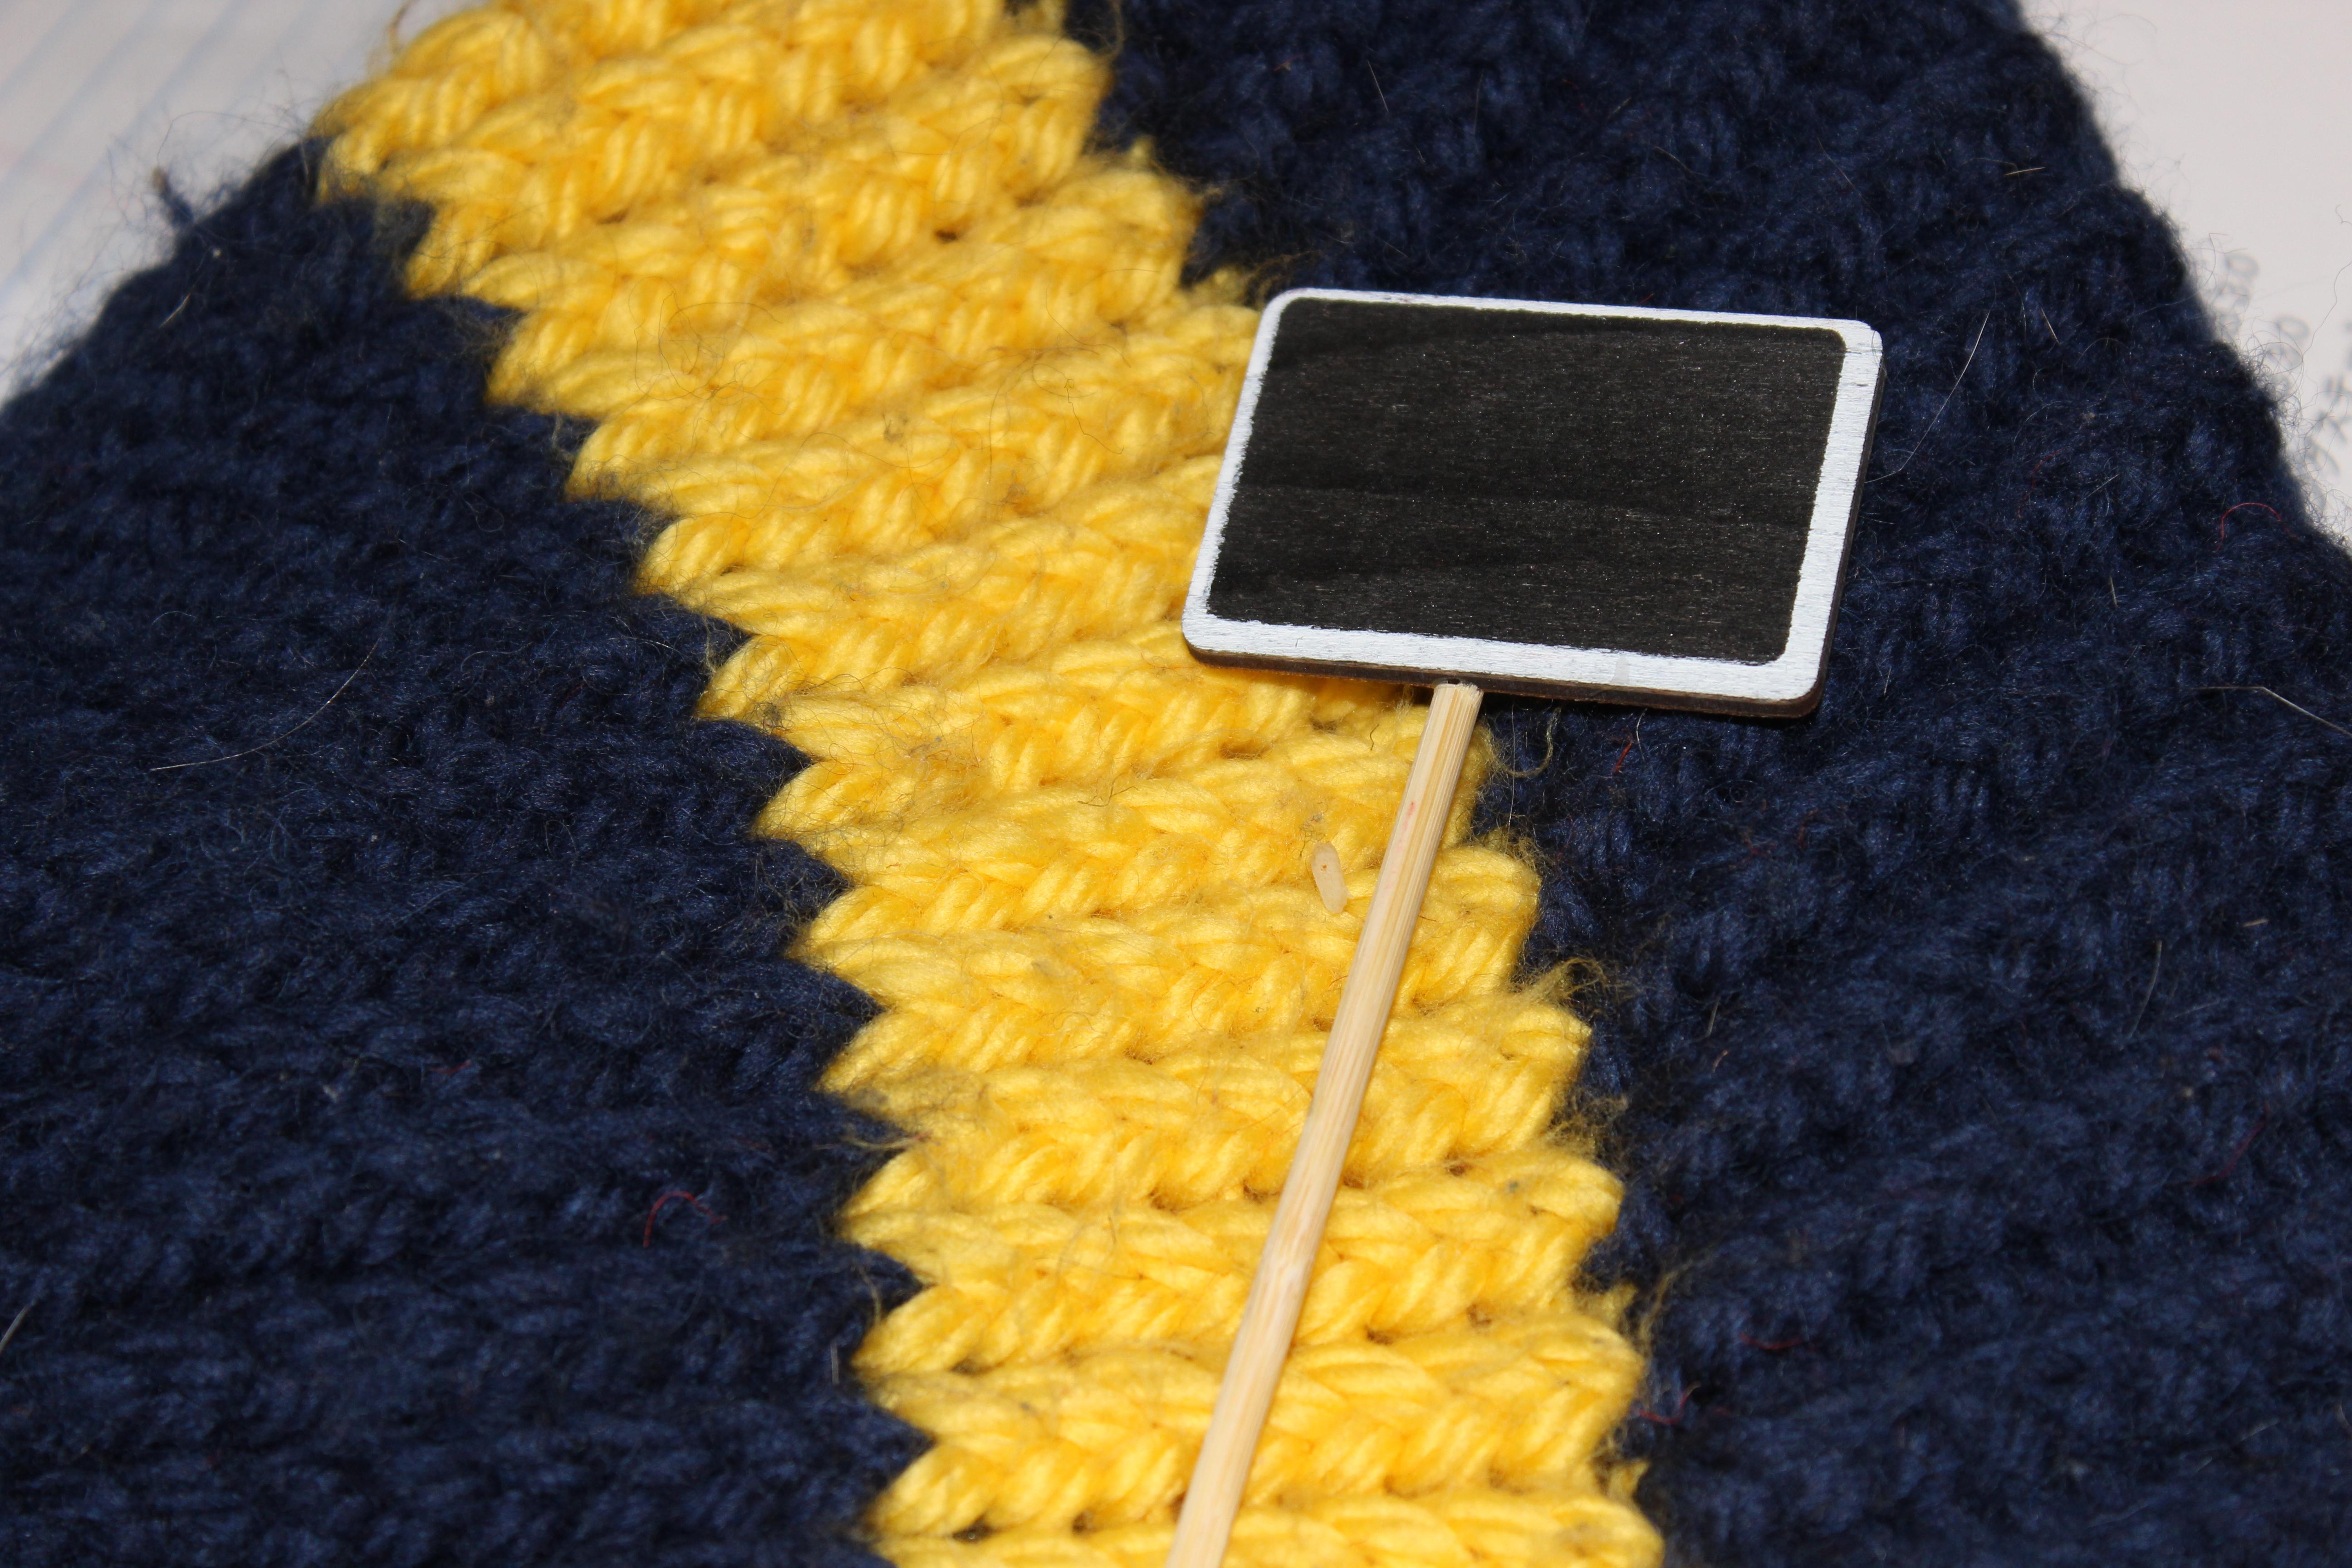sign: (1113, 250, 1943, 1568)
